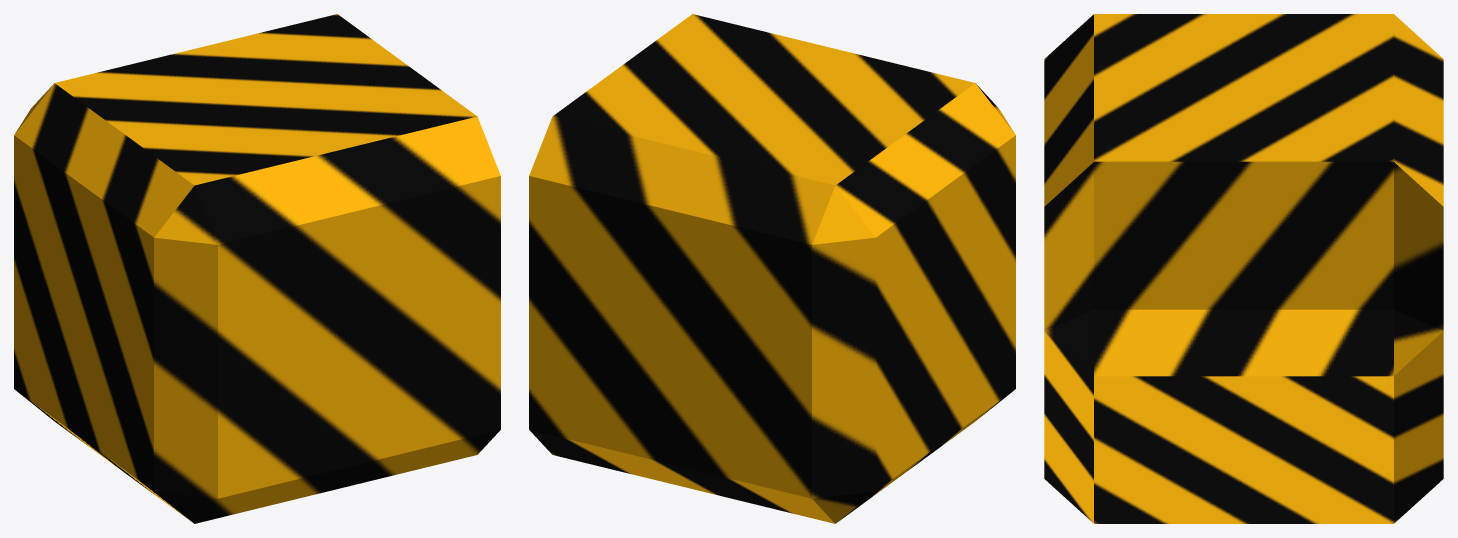
File: Bevel_2.fbx
The picture shows the model from 3 angles, left to right: view 1: azimuth 30°, elevation 25°; view 2: azimuth 150°, elevation 25°; view 3: azimuth 270°, elevation 25°; orthographic projection. The views are drawn at different scales.
Visible parts, largest first — view 1: Bevel_2; view 2: Bevel_2; view 3: Bevel_2.
Boxes of the visible parts, x1,y1,x2,y2 form: Bevel_2: (14,14,500,523); Bevel_2: (529,14,1015,523); Bevel_2: (1044,14,1443,523).
Bounding box in the file's own units: 10000 × 10000 × 10000.
